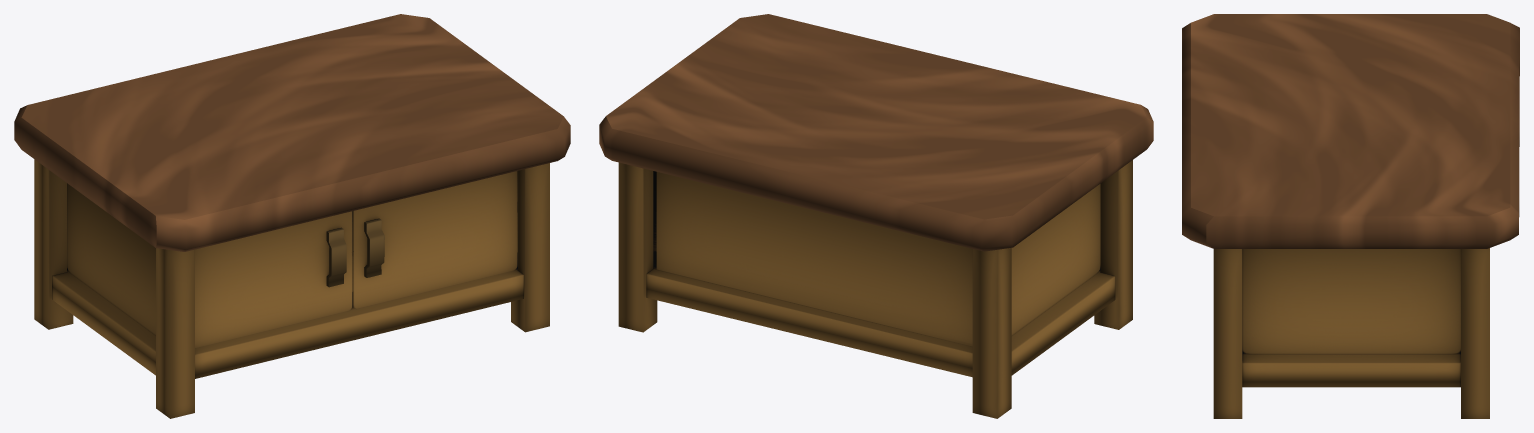
File: Drawer_B.fbx
The picture shows the model from 3 angles, left to right: view 1: azimuth 30°, elevation 25°; view 2: azimuth 150°, elevation 25°; view 3: azimuth 270°, elevation 25°; orthographic projection.
Parts seen in each view (by area): view 1: Drawer_B; view 2: Drawer_B; view 3: Drawer_B.
Boxes of the visible parts, bbox=[...] form: Drawer_B: bbox=[14, 14, 570, 418]; Drawer_B: bbox=[599, 14, 1153, 418]; Drawer_B: bbox=[1182, 14, 1519, 418].
Size of the model in its own units: 148 by 70.51 by 103.
Materials: 1 (1 with a texture image).
